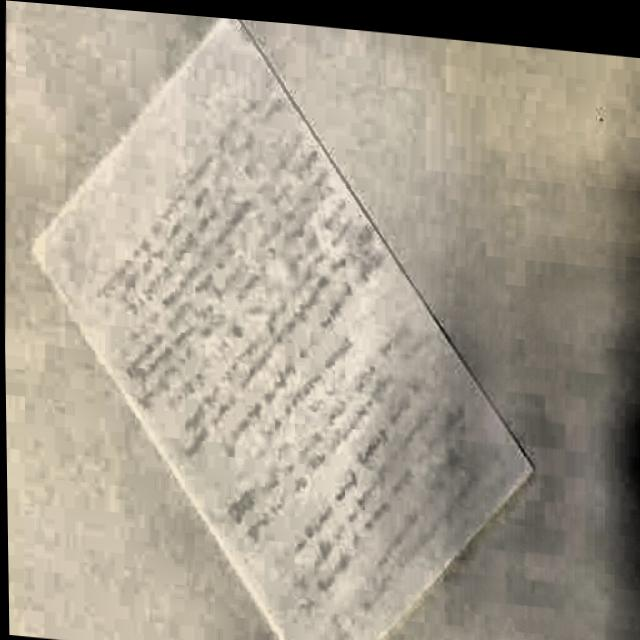Paper: (21, 1, 551, 640)
